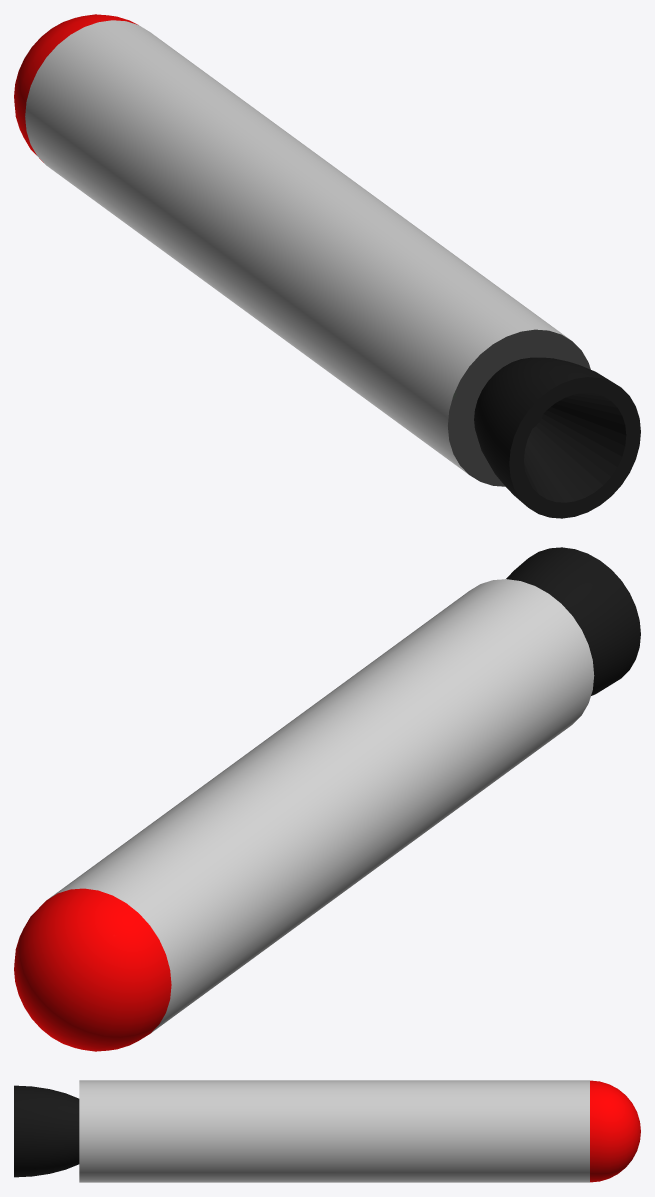
File: Rocket.FBX
3 views of the same model, one above another, from view 1: azimuth 30°, elevation 25°; view 2: azimuth 150°, elevation 25°; view 3: azimuth 270°, elevation 25° (orthographic). The views are drawn at different scales.
Parts seen in each view (by area): view 1: Rocket; view 2: Rocket; view 3: Rocket.
Boxes of the visible parts, bbox=[...] form: Rocket: bbox=[14, 14, 640, 518]; Rocket: bbox=[14, 547, 640, 1051]; Rocket: bbox=[14, 1080, 640, 1182].
Size of the model in its own units: 2 by 2 by 12.28.
